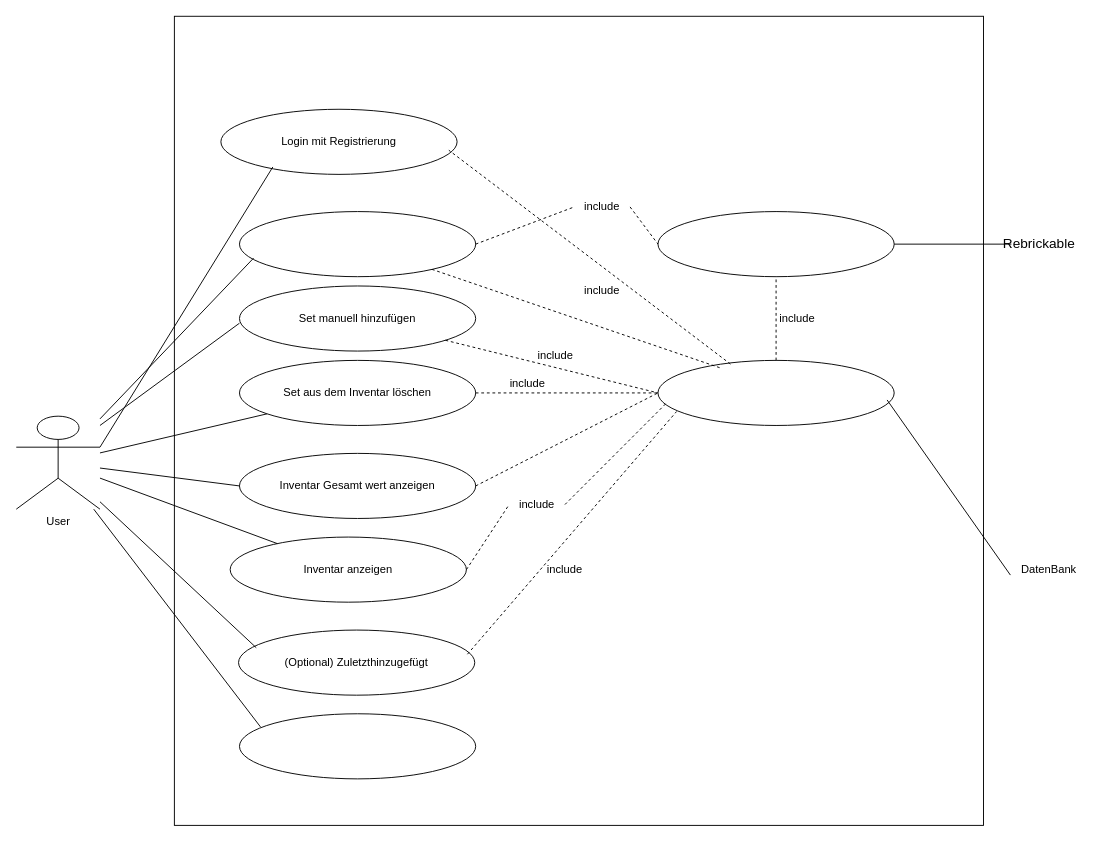
The diagram is 1102 pixels wide and 842 high, and some of its shapes have lost their labels. The box of each missing label's shape, as (x1, y1, x2, y2) in pixels:
(optional) Exportfunktion via. PDF: (239, 713, 476, 779)
API Daten abruf: (657, 211, 894, 277)
Daten Speicher: (657, 359, 894, 425)
Set hinzufügen: (239, 211, 476, 277)
